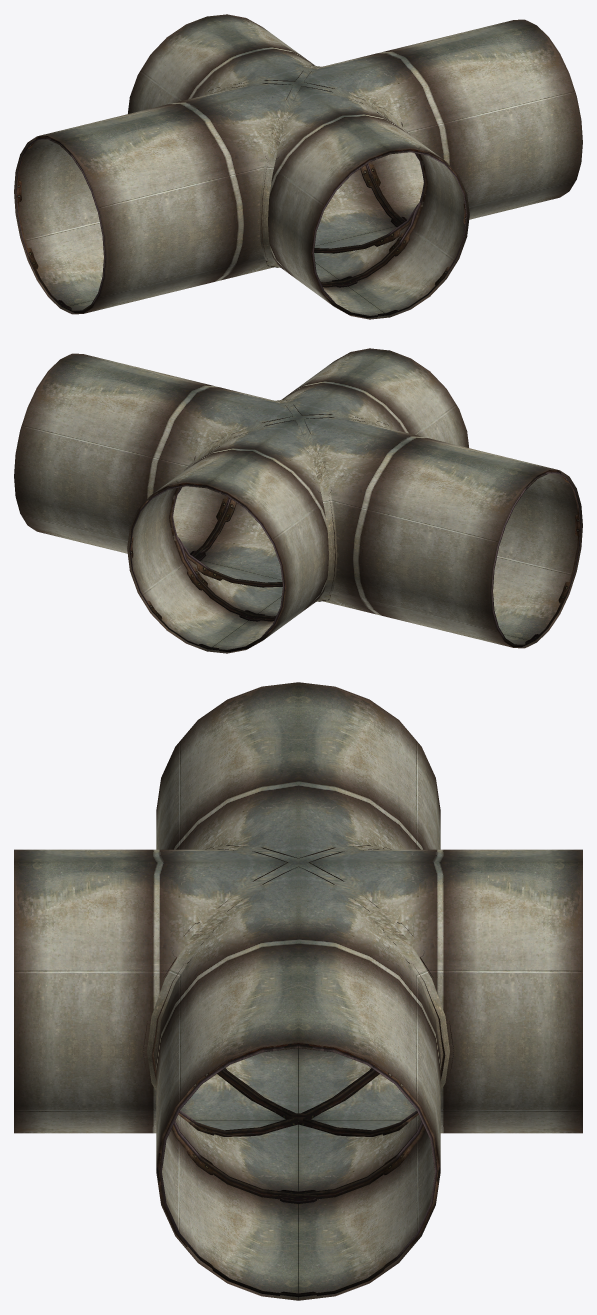
Rendered from pump_tunnel_02_07_4way.dae.
3 views of the same model, one above another, from view 1: azimuth 30°, elevation 25°; view 2: azimuth 150°, elevation 25°; view 3: azimuth 270°, elevation 25° (orthographic). The views are drawn at different scales.
Parts seen in each view (by area): view 1: polySurface1017; view 2: polySurface1017; view 3: polySurface1017.
Part boxes in pixels (left/top/right/bottom): polySurface1017: left=14, top=14, right=582, bottom=319; polySurface1017: left=14, top=348, right=582, bottom=653; polySurface1017: left=14, top=682, right=582, bottom=1300.
Size of the model in its own units: 12 by 4.01 by 8.
